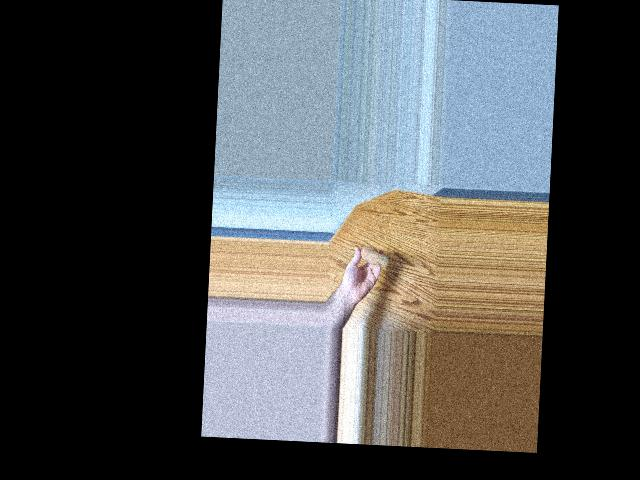sweet_potato: (357, 248, 388, 268)
